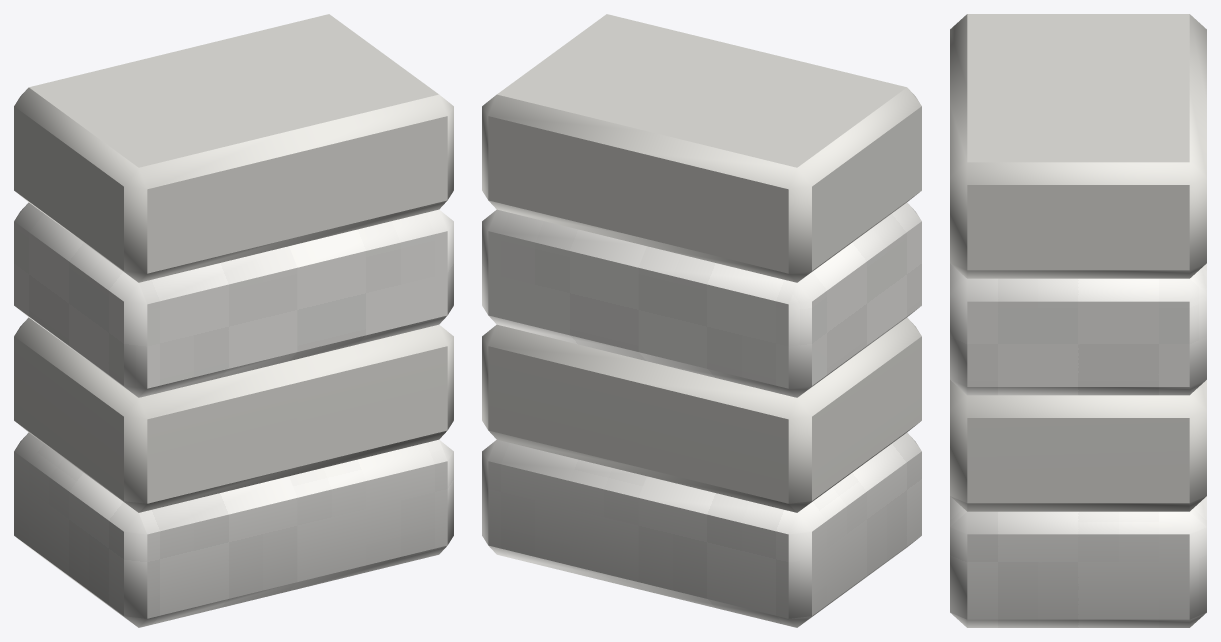
File: soap_stack.glb
The picture shows the model from 3 angles, left to right: view 1: azimuth 30°, elevation 25°; view 2: azimuth 150°, elevation 25°; view 3: azimuth 270°, elevation 25°; orthographic projection.
Visible parts, largest first — view 1: body; view 2: body; view 3: body.
Boxes of the visible parts, box(x1,y1,x2,y2) form: body: box(14, 14, 453, 627); body: box(482, 14, 921, 627); body: box(950, 14, 1206, 627).
Size of what is drawn, in the model's own units: 0.09 by 0.12 by 0.06.
2 materials, 1 textured.
